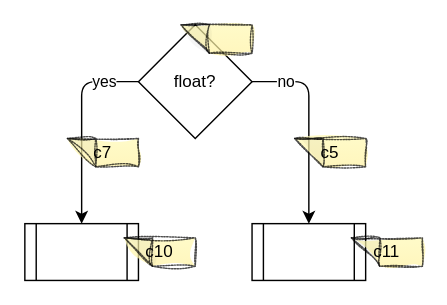
This 447x305 diagram has some shape labels left out. Each missing label, with the centre of its shape:
c9: (x=216, y=38)
compile float: (x=80, y=251)
error: (x=308, y=251)
